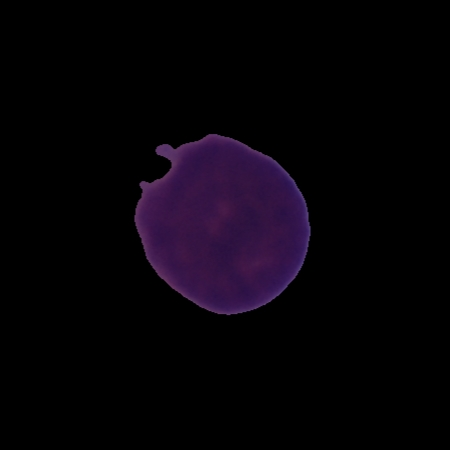ALL: (131, 129, 314, 317)
